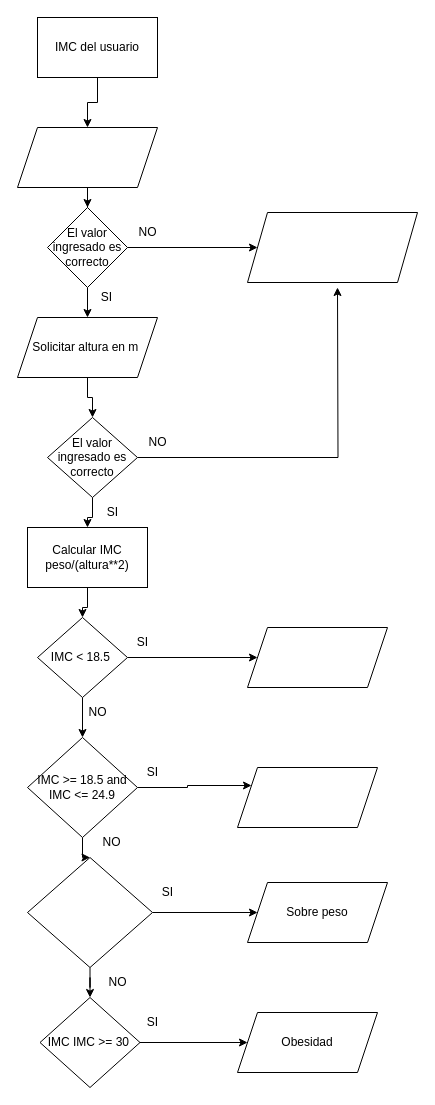
Image size: 435x1105. Some labels were removed from this diagram. Each missing label, with the centre of its shape:
"Bajo de peso" goes at (x=317, y=657).
"IMC MC >= 25 and IMC <= 29.9" goes at (x=89, y=912).
"Ingresa un valor correcto" goes at (x=332, y=247).
"Peso normal" goes at (x=307, y=797).
"Solicitar peso en kg" goes at (x=87, y=157).
